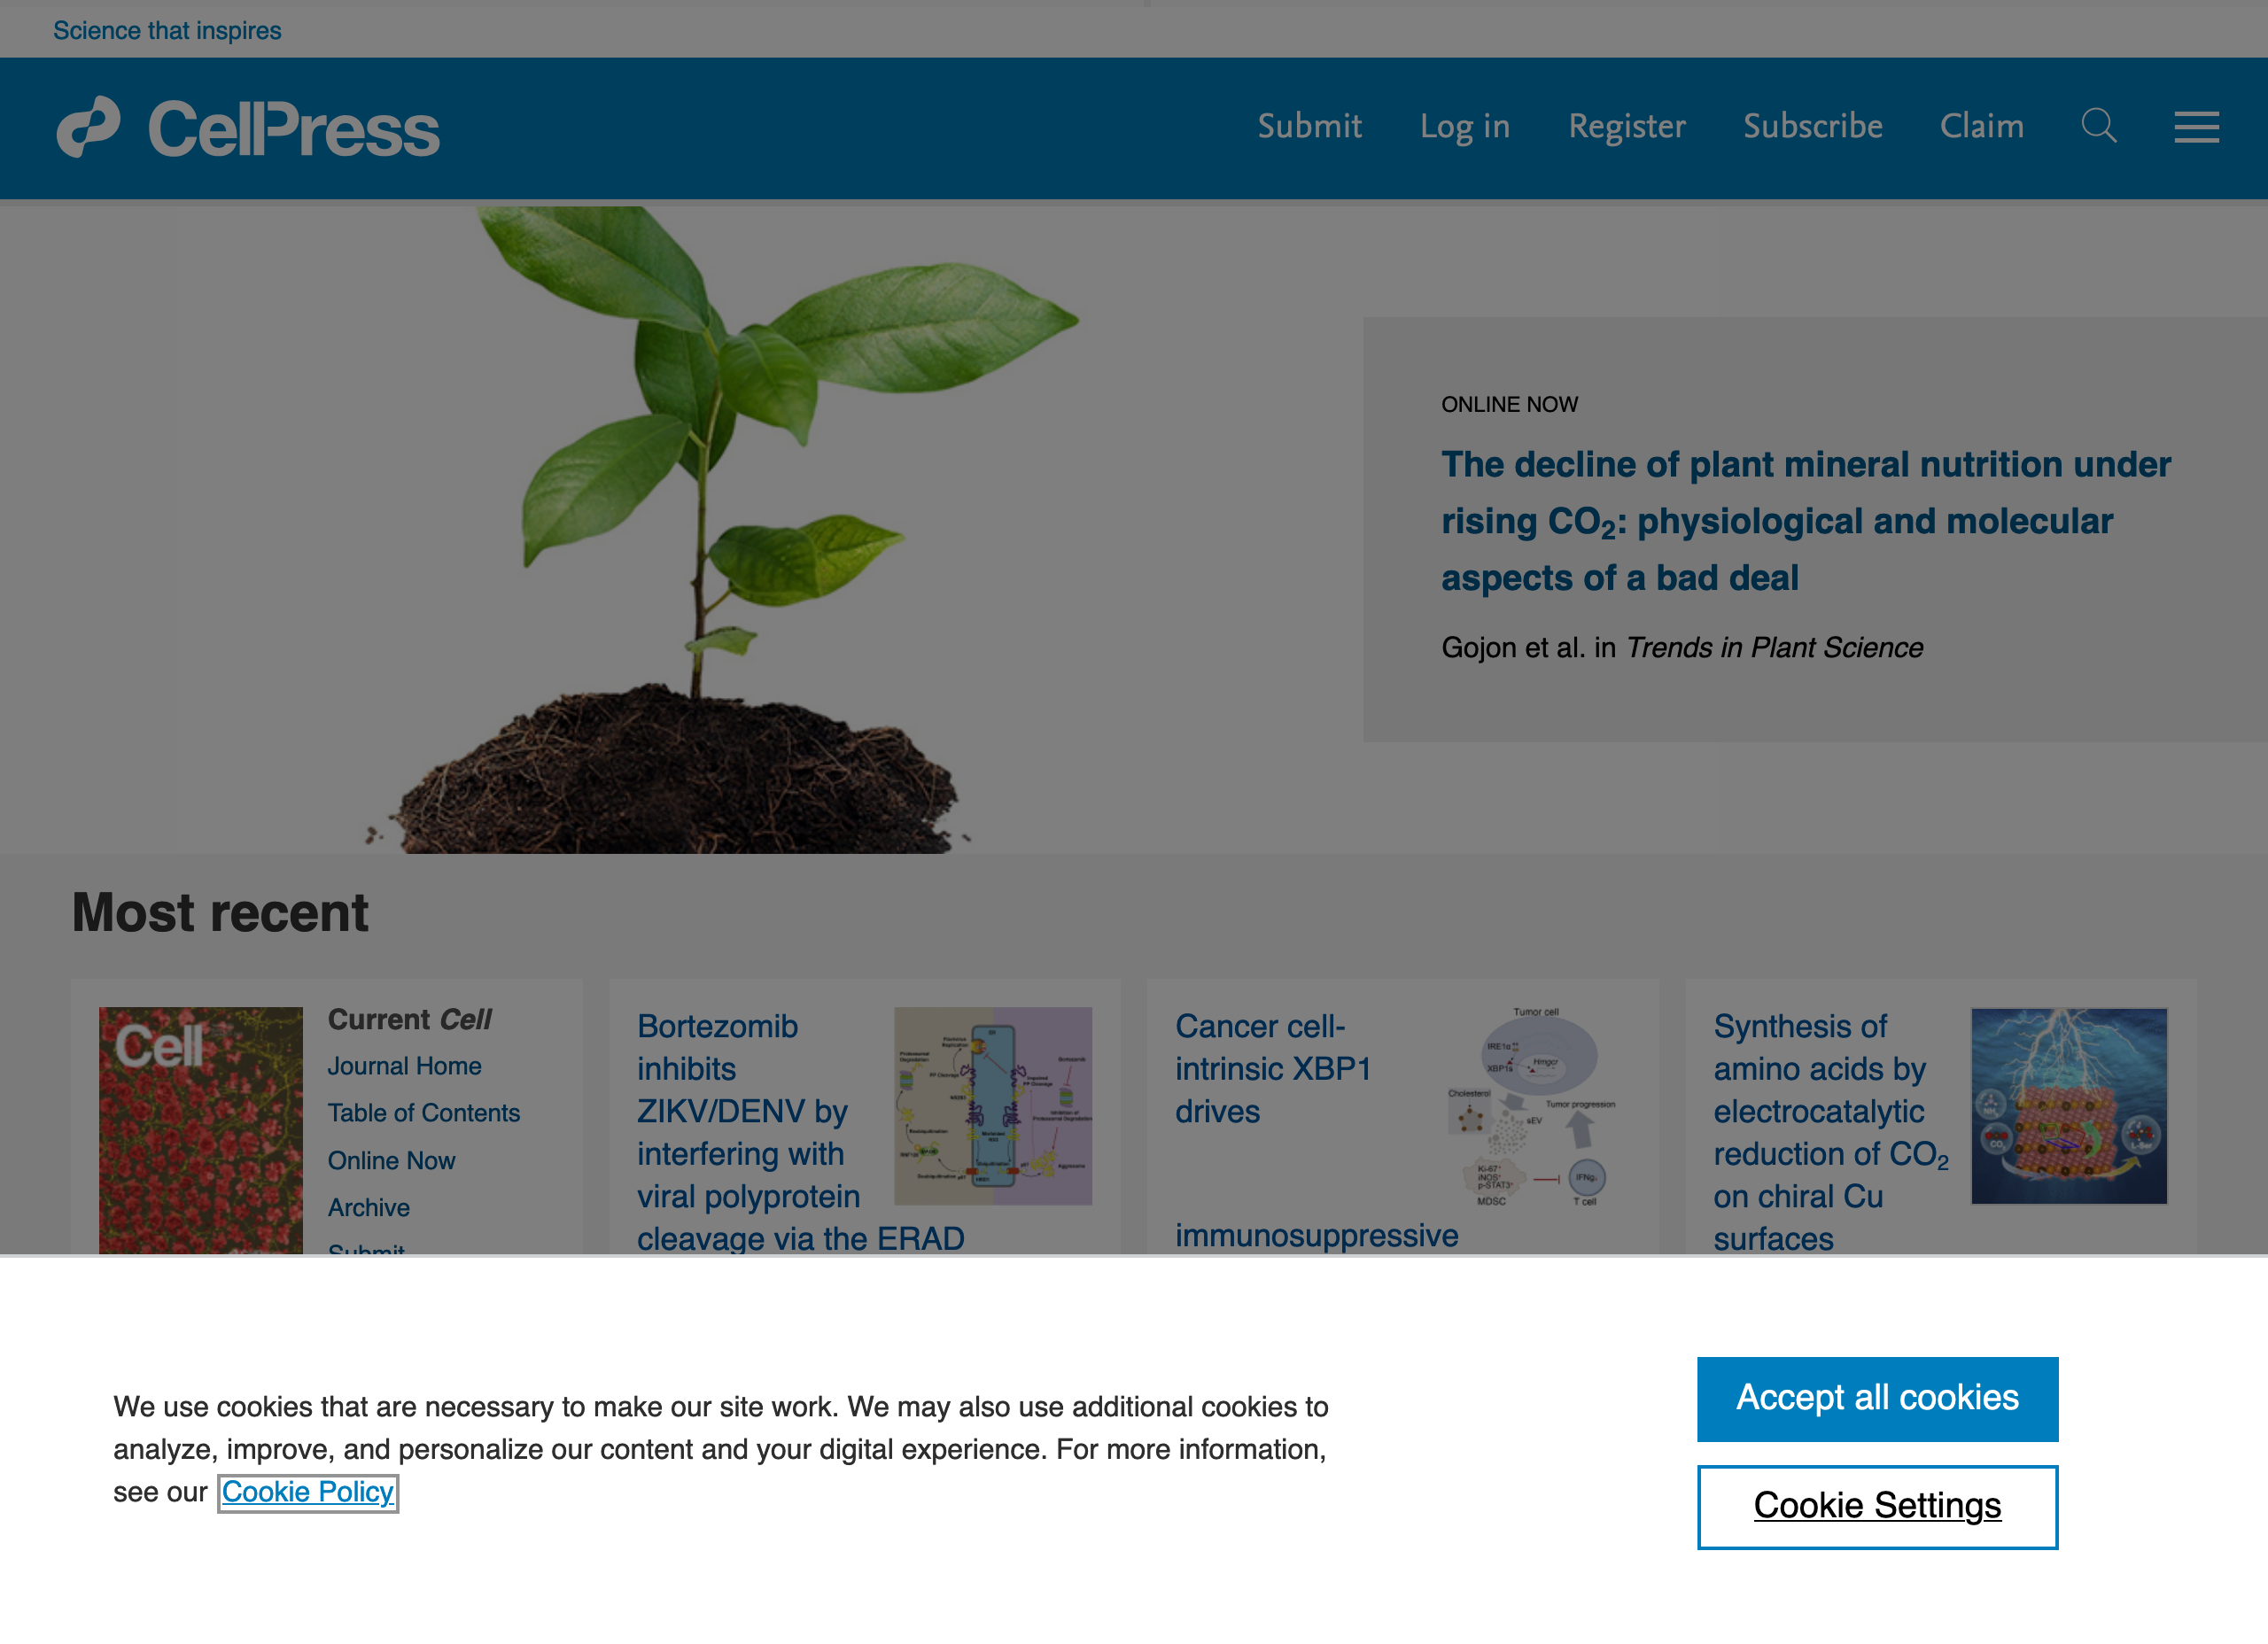Login: (1403, 95, 1527, 157)
